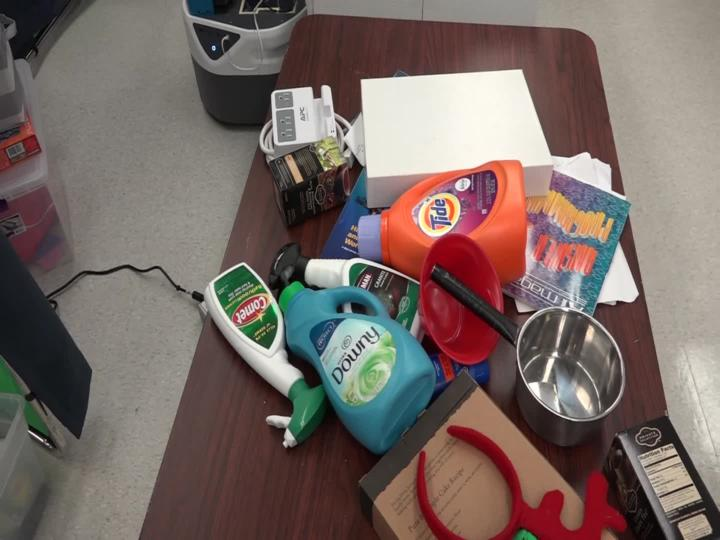downy: (256, 262, 460, 470)
